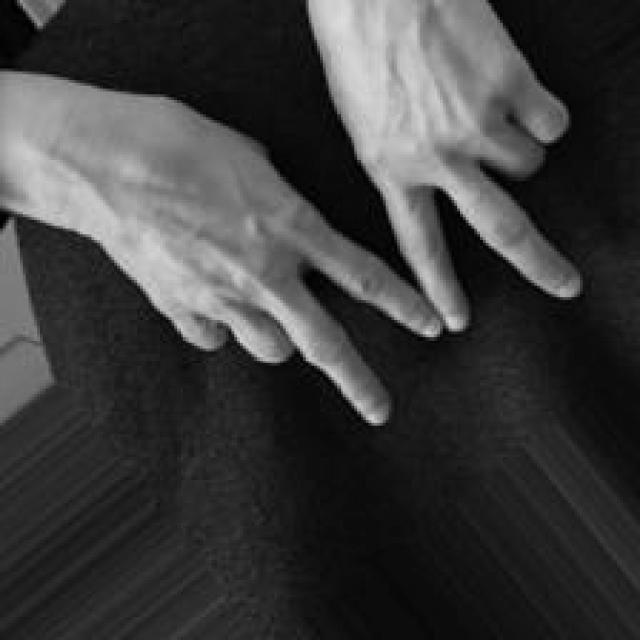M: (106, 4, 594, 435)
